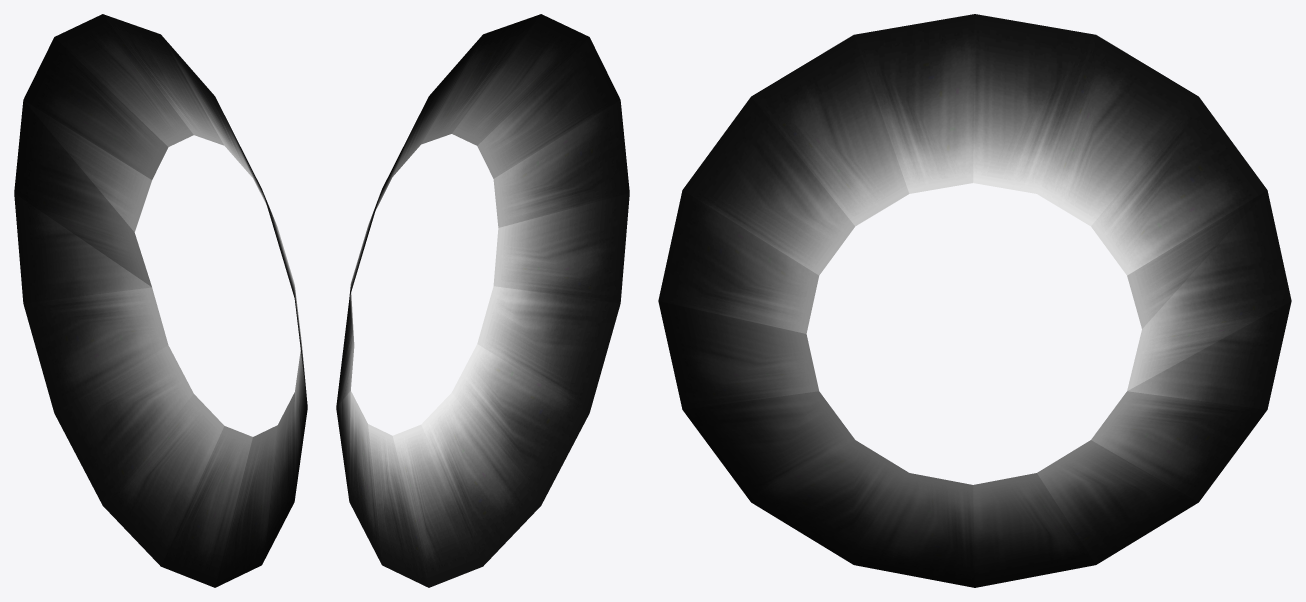
The model's file is shanyaozhidun002.FBX.
3 renders of one model, left to right at view 1: azimuth 30°, elevation 25°; view 2: azimuth 150°, elevation 25°; view 3: azimuth 270°, elevation 25°, orthographic. The views are drawn at different scales.
Visible parts, largest first — view 1: shanyaozhidun002; view 2: shanyaozhidun002; view 3: shanyaozhidun002.
Part boxes in pixels (x1=…): shanyaozhidun002: x1=14, y1=14, x2=307, y2=587; shanyaozhidun002: x1=336, y1=14, x2=629, y2=587; shanyaozhidun002: x1=658, y1=14, x2=1291, y2=587.
Size of the model in its own units: 9.41 by 73 by 73.
